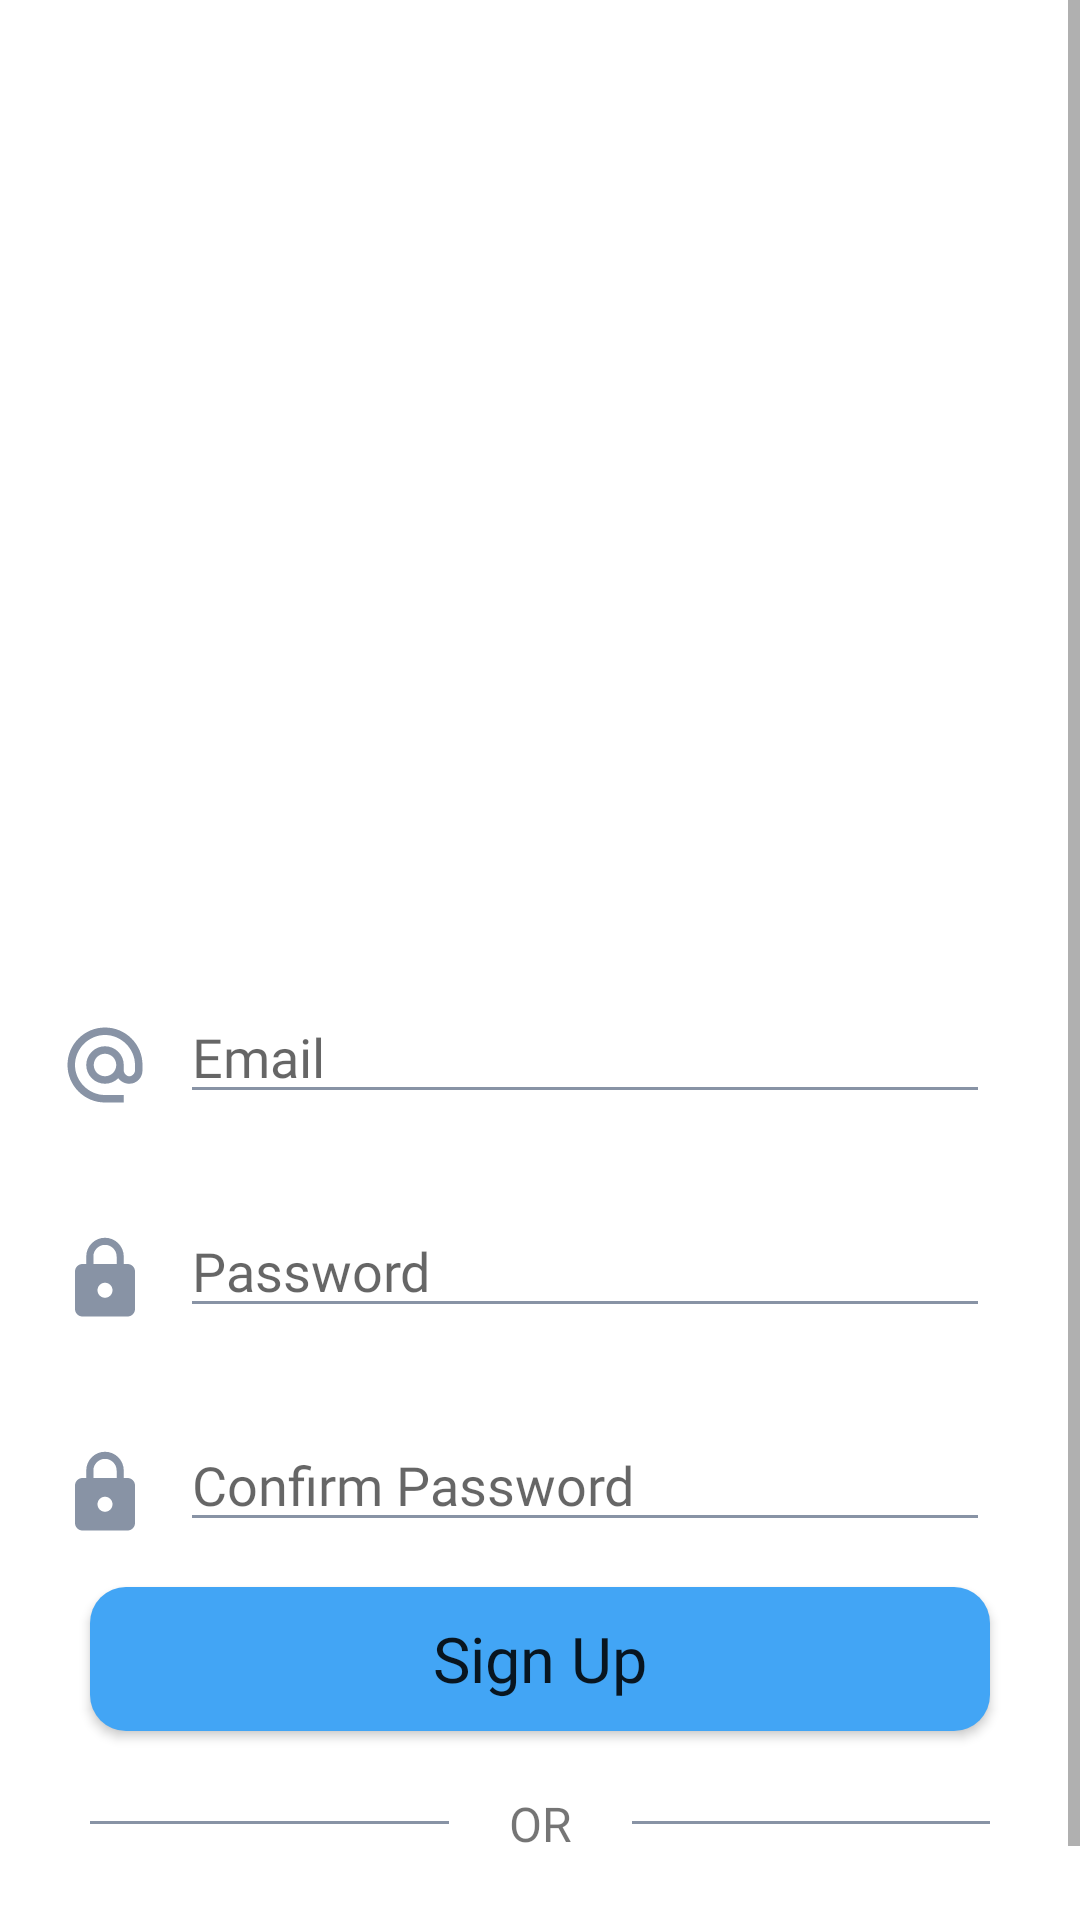

Named icons in this screenshot (1080×1920) and their bounding boxes, box=[x1, y1, x2, y2]:
lock: box=[75, 1237, 135, 1317], box=[75, 1451, 135, 1531]
